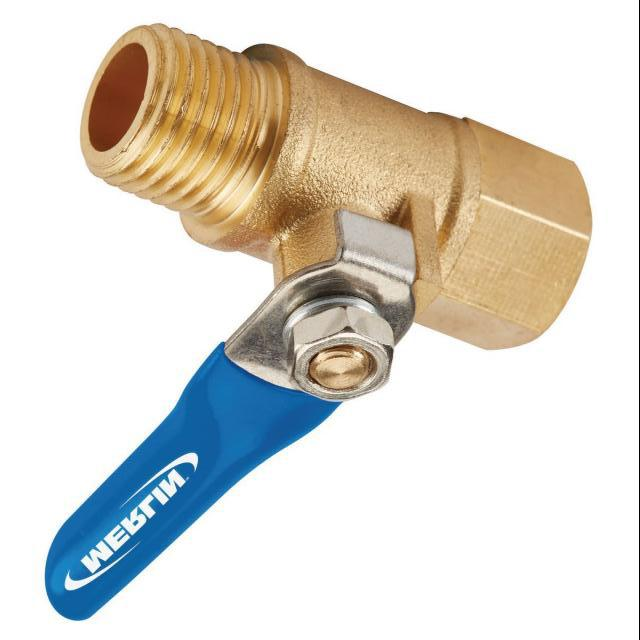closed valve: (44, 18, 597, 618)
